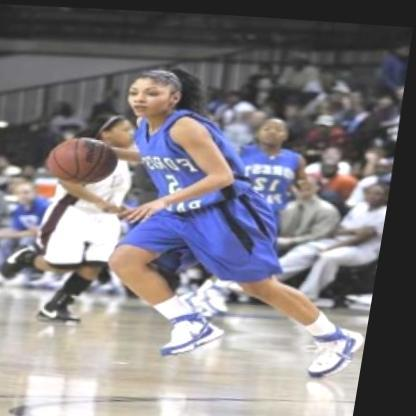basketball: (48, 133, 124, 185)
